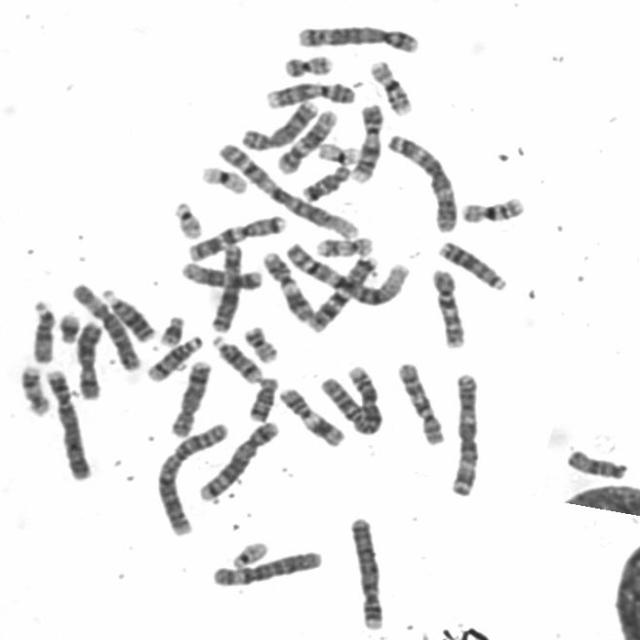A1: (216, 140, 360, 240), (283, 238, 409, 307)
A2: (152, 420, 230, 538), (316, 362, 384, 437)
A3: (384, 130, 460, 234), (445, 370, 481, 497)
B4: (43, 366, 93, 482), (346, 511, 386, 632)
B5: (196, 419, 281, 502), (292, 22, 420, 54)
C10: (394, 358, 447, 446), (428, 265, 468, 350)
C11: (275, 384, 346, 450), (258, 247, 315, 324)
C12: (273, 106, 339, 176), (178, 258, 264, 292)
C6: (70, 279, 142, 371), (208, 546, 324, 590)
C7: (306, 251, 382, 334), (183, 211, 288, 263)
C8: (237, 96, 321, 152), (166, 358, 214, 438)
C9: (263, 77, 357, 111), (348, 100, 384, 184)
D13: (436, 236, 508, 292), (100, 284, 157, 344)
D14: (142, 332, 203, 383), (209, 333, 263, 384)
D15: (563, 446, 628, 480), (29, 296, 57, 366)
E16: (366, 57, 414, 116), (457, 193, 526, 225)
E17: (16, 361, 50, 417), (312, 233, 376, 258)
E18: (298, 161, 352, 204), (243, 373, 280, 424)
F19: (198, 162, 249, 196), (315, 140, 360, 168)
F20: (241, 324, 280, 364), (280, 52, 335, 79)
G21: (156, 313, 186, 347), (56, 310, 81, 344)
G22: (171, 198, 205, 240), (228, 537, 270, 570)
X: (207, 239, 245, 333), (74, 319, 105, 402)
